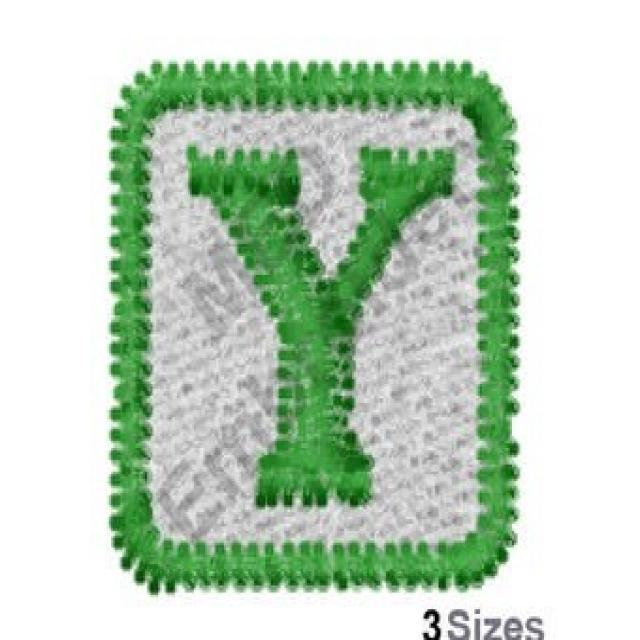Y: (172, 123, 471, 521)
